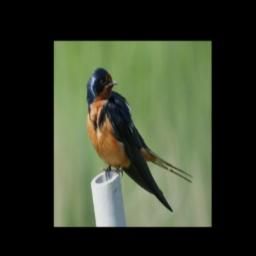Swallow: (85, 65, 193, 209)
